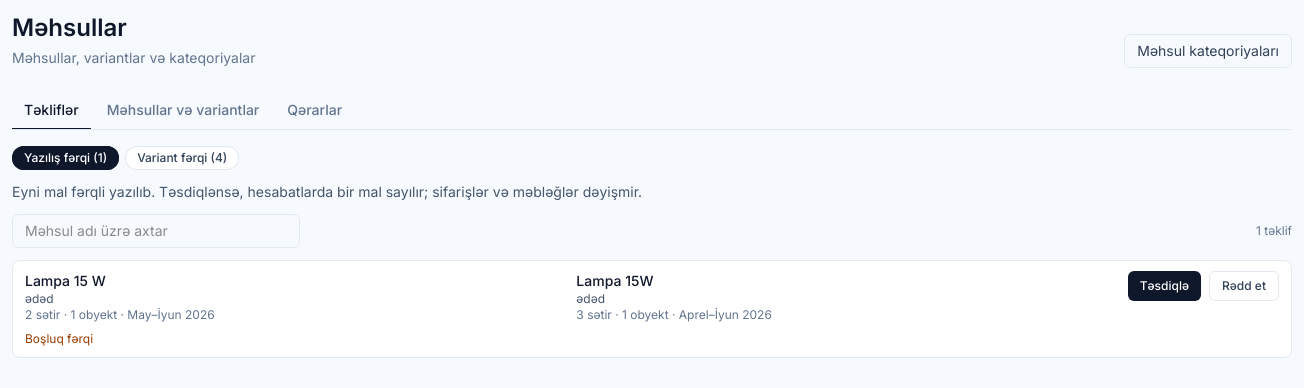
the suggestions › shows the Sabun pair under "Variant fərqi" with its label
expect the tab "Təkliflər" is shown: met, box [12, 92, 91, 130]
Click the button "Variant fərqi (4)".
click(182, 158)  # box [125, 146, 239, 170]
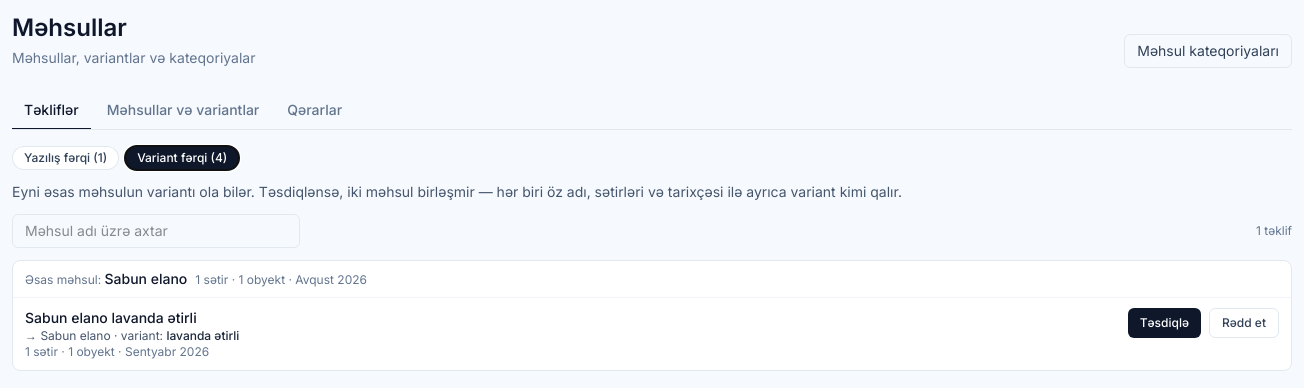
expect the text "Sabun elano lavanda ətirli" is shown: met, box [25, 309, 197, 326]
expect the text "lavanda ətirli" is shown: met, box [166, 328, 239, 343]
expect the text "iki məhsul birləşmir" is shown: met, box [12, 183, 902, 200]
